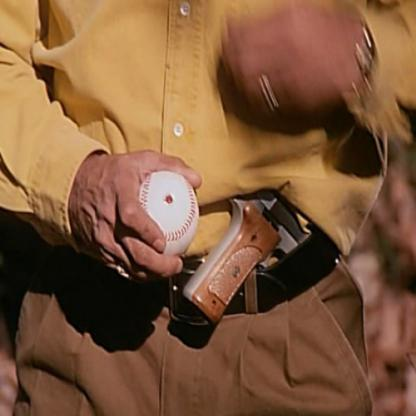Guns: (177, 179, 327, 330)
